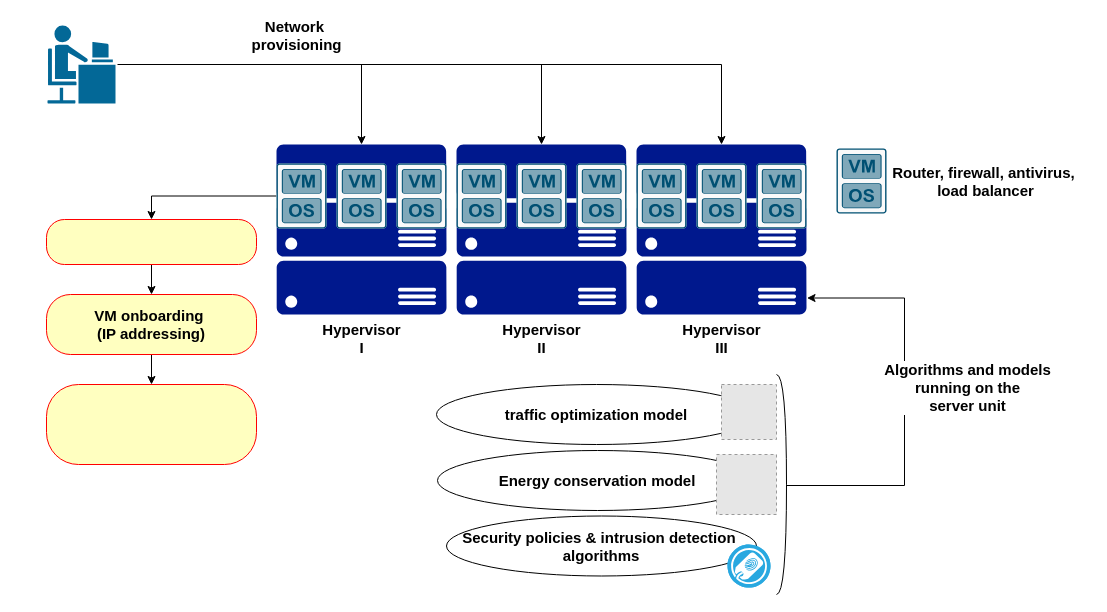
Image size: 1107x612. Some labels were removed from this diagram. Grey dashed boxes stand in for pictures. The centre of each missing label's shape, as x and y in pixels:
"Link to SDN controller (automated network management)" goes at pixel 151 424.
"Network Engineer" goes at pixel 81 64.
"VM instantiated" goes at pixel 151 241.
